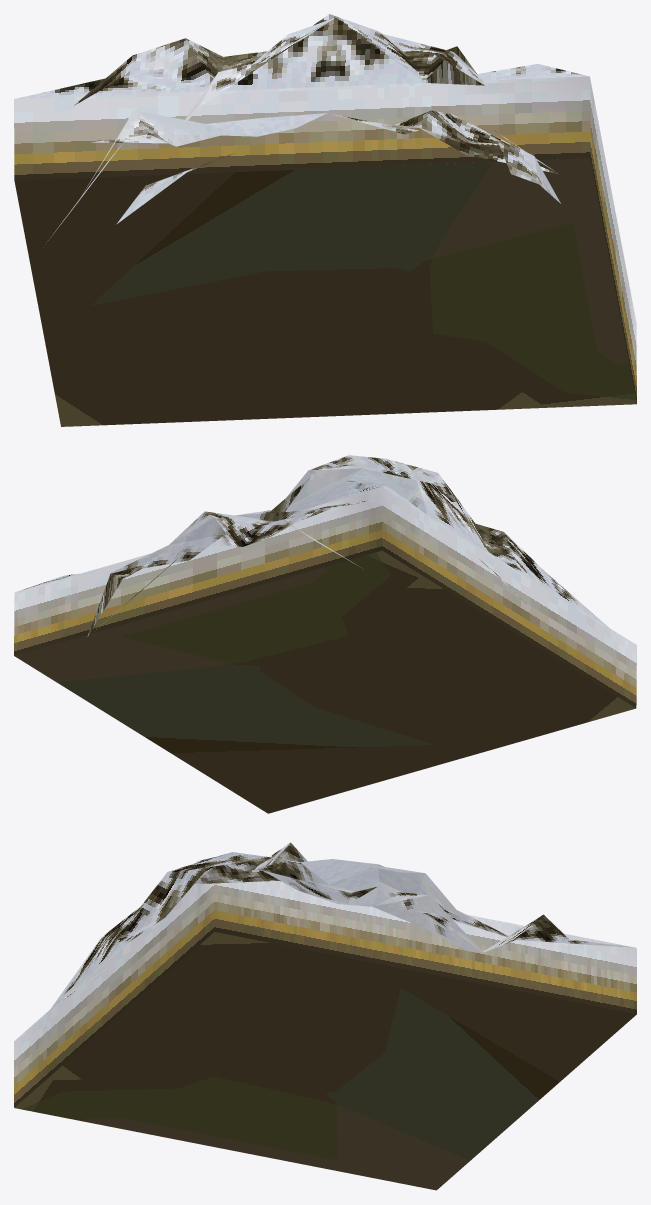
The model's file is ps2_save-icons_coolboarders2001.glb.
3 views of the same model, one above another, from view 1: azimuth 30°, elevation 25°; view 2: azimuth 150°, elevation 25°; view 3: azimuth 270°, elevation 25° (orthographic). The views are drawn at different scales.
Visible parts, largest first — view 1: icon1.ico; view 2: icon1.ico; view 3: icon1.ico.
Part boxes in pixels (<box>): icon1.ico: <box>14,14,636,426</box>; icon1.ico: <box>14,455,636,813</box>; icon1.ico: <box>14,842,636,1190</box>.
Bounding box in the file's own units: 4.51 × 1.54 × 4.51.
Materials: 1 (1 with a texture image).
